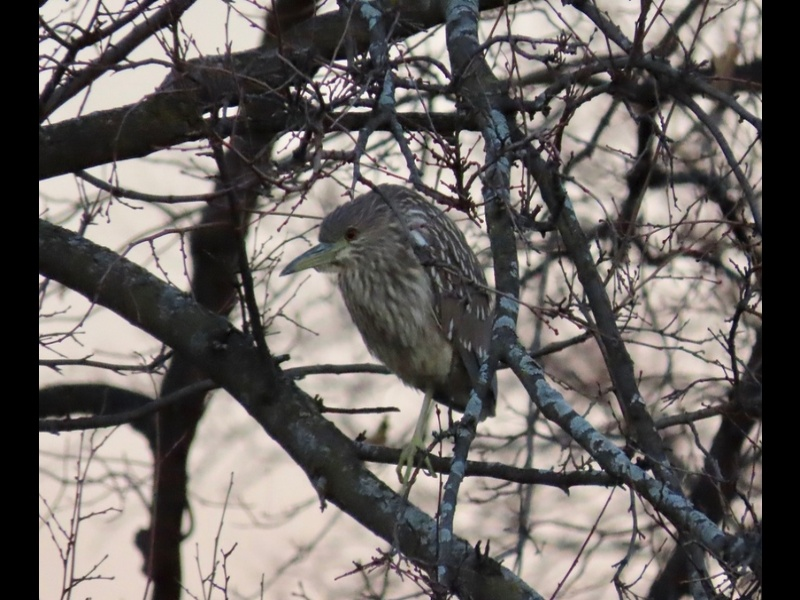heron: (279, 189, 498, 480)
